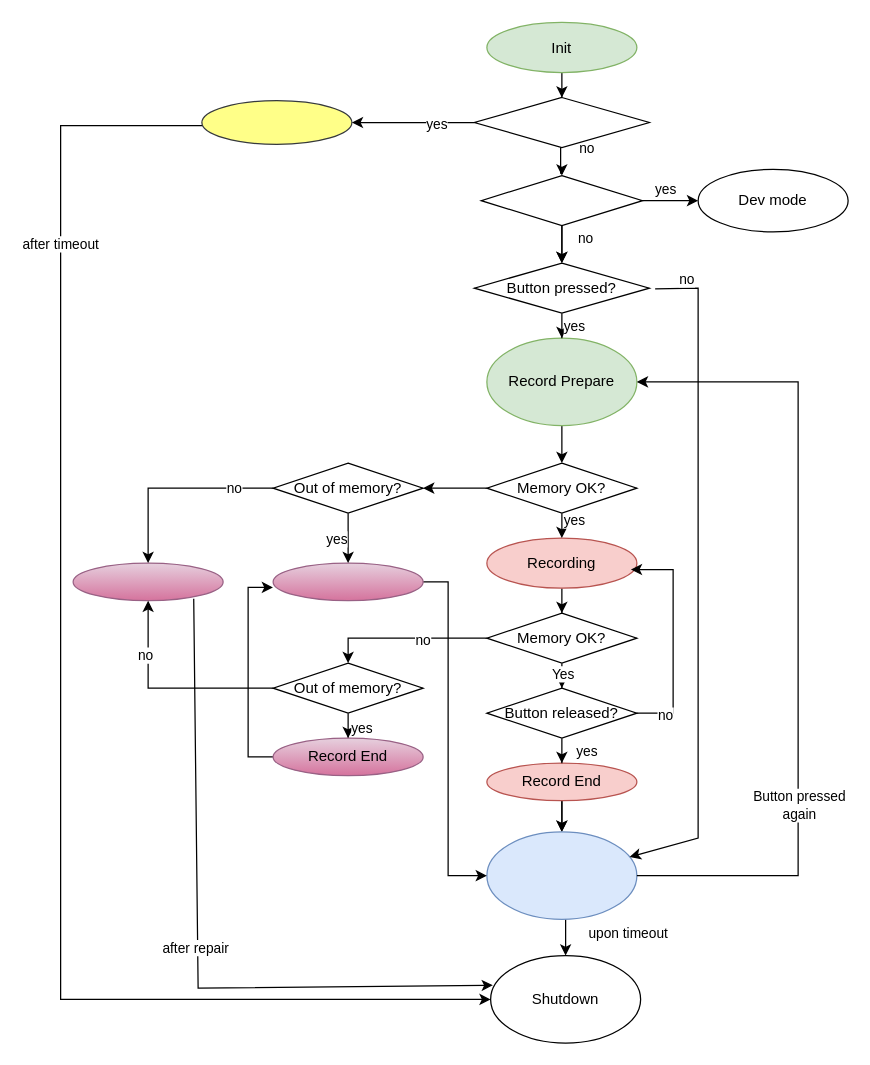
This 870x1065 diagram has some shape labels left out. Here are the shapes that lost their labels. From the top down, the box of each, then its label:
(201, 99, 352, 144): Low Battery
(473, 96, 649, 148): Battery low?
(480, 174, 642, 226): Is dev mode?
(72, 562, 223, 601): Memory is corrupt
(272, 562, 423, 601): Out of memory
(486, 831, 637, 919): BLE Operation
